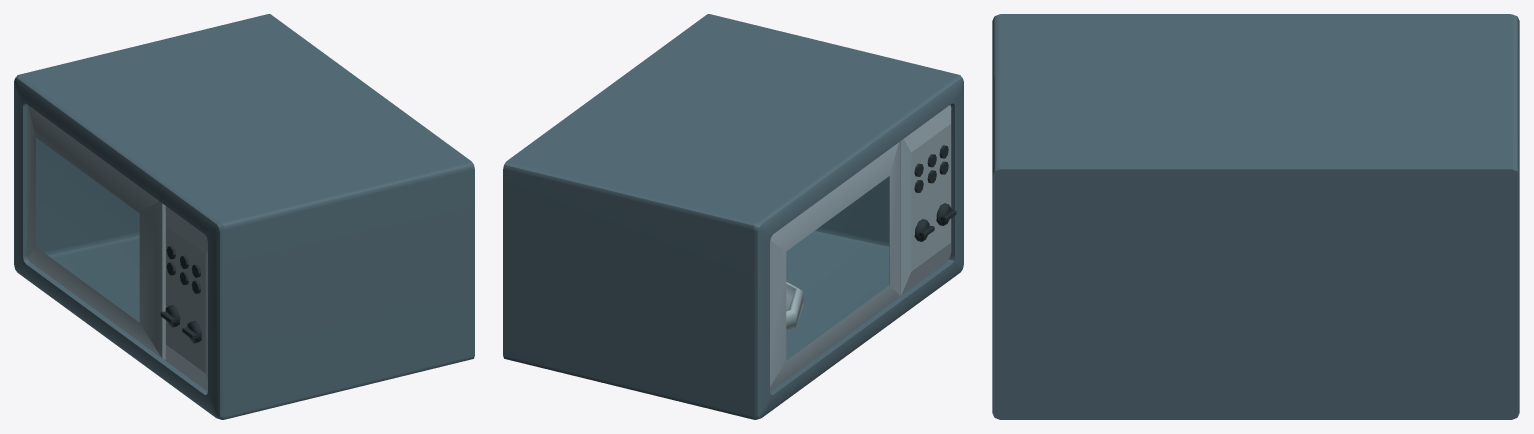
The model's file is MicroOven_Collider.fbx.
3 renders of one model, left to right at view 1: azimuth 30°, elevation 25°; view 2: azimuth 150°, elevation 25°; view 3: azimuth 270°, elevation 25°, orthographic. The views are drawn at different scales.
Visible parts, largest first — view 1: MicroOven_Collider; view 2: MicroOven_Collider; view 3: MicroOven_Collider.
Part boxes in pixels (<box>): MicroOven_Collider: <box>14,14,474,419</box>; MicroOven_Collider: <box>503,14,963,419</box>; MicroOven_Collider: <box>992,14,1519,419</box>.
Bounding box in the file's own units: 103 × 73.79 × 141.
